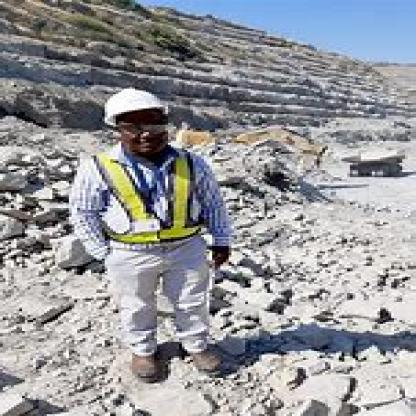person: (58, 72, 251, 391)
